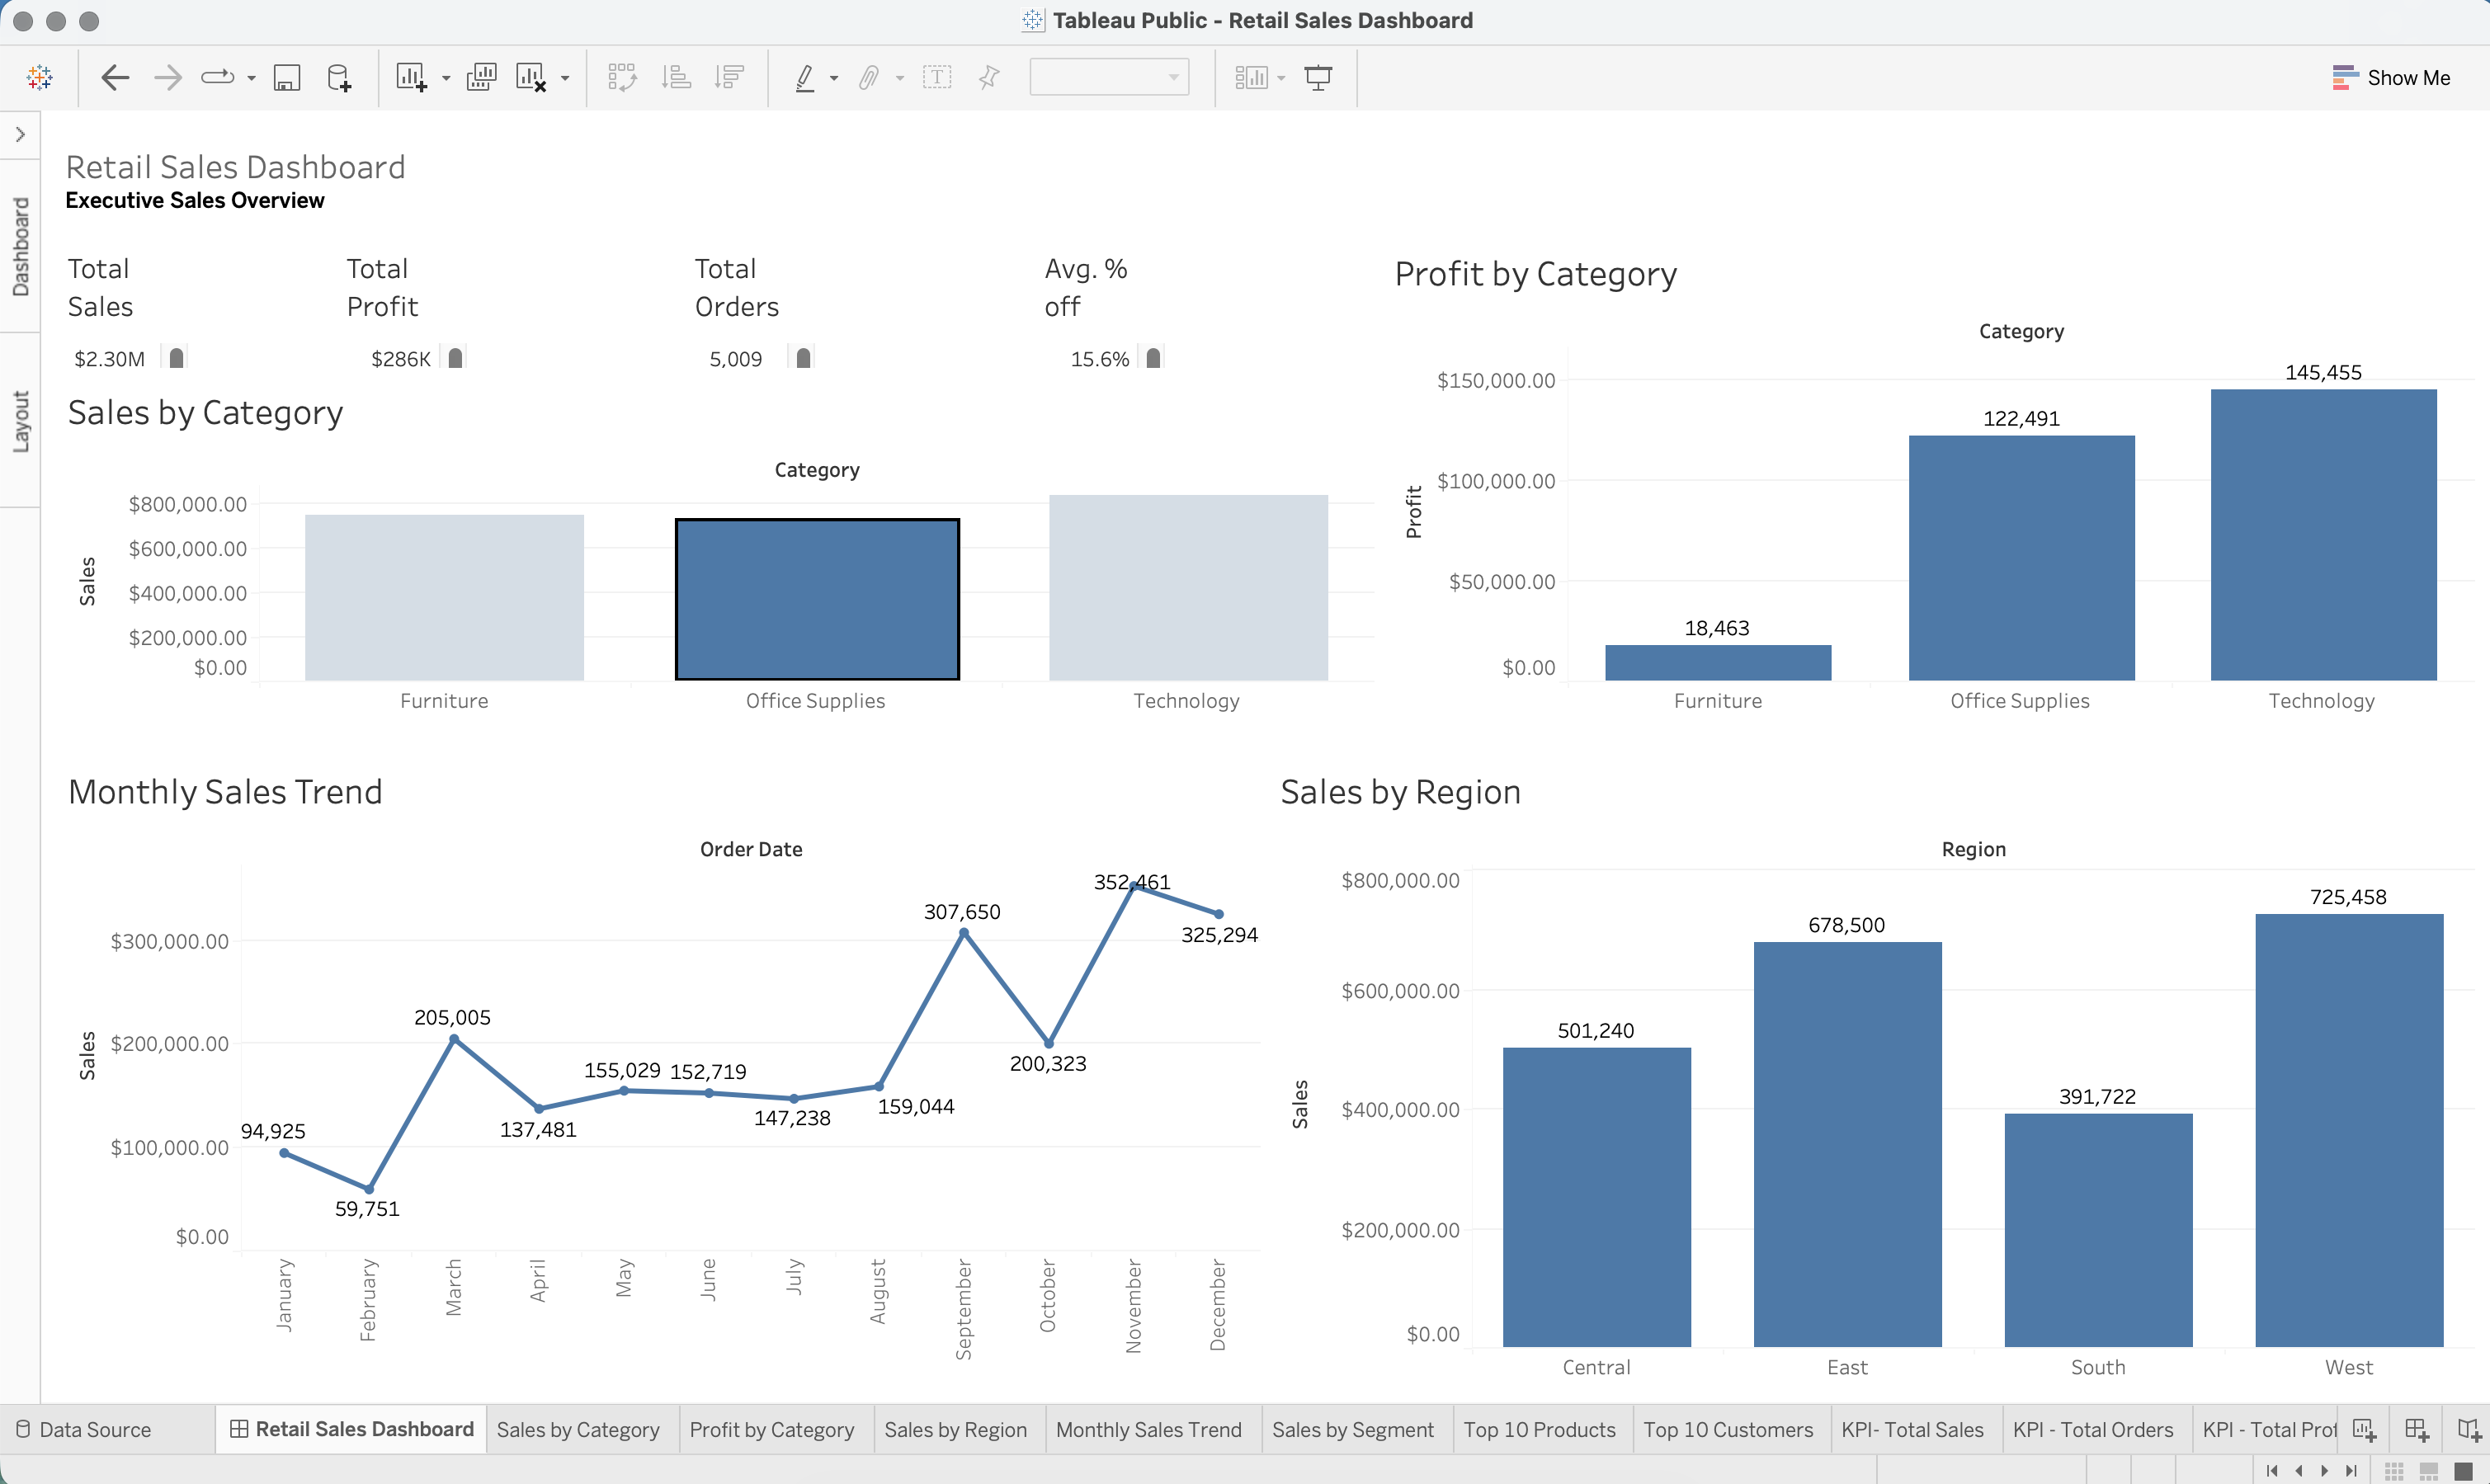

The dashboard page shown, as its layout file describes it:
{"tool":"tableau","page":{"name":"Retail Sales Dashboard","canvas":[1000,1000],"units":"permille","ordinal":0},"visuals":[{"type":"text","box":[6.2,10.2,987.5,86.8]},{"type":"worksheet","title":"KPI- Total Sales","mark":"Text","box":[6.2,97.1,131.9,107.3]},{"type":"worksheet","title":"KPI - Total Profit","mark":"Text","box":[138.2,97.1,135.8,107.3]},{"type":"worksheet","title":"KPI - Total Orders","mark":"Text","box":[274,97.1,135.8,107.3]},{"type":"worksheet","title":"KPI - Avg Discount","mark":"Text","box":[409.8,97.1,135.8,107.3]},{"type":"worksheet","title":"Profit by Category","mark":"Automatic","rows":["Profit"],"cols":["Category"],"box":[545.7,97.1,448.1,400.9]},{"type":"worksheet","title":"Sales by Category","mark":"Automatic","rows":["Sales"],"cols":["Category"],"box":[6.2,204.3,539.4,293.7]},{"type":"worksheet","title":"Monthly Sales Trend","mark":"Automatic","rows":["Sales"],"cols":["Order Date"],"box":[6.2,498,493.8,491.8]},{"type":"worksheet","title":"Sales by Region","mark":"Automatic","rows":["Sales"],"cols":["Region"],"box":[500,498,493.8,491.8]}]}

Visuals, with their boxes on the dashboard's canvas, which has no fixed pixel size, in thousandths of its width and height (x1, y1, x2, y2). These are canvas units, not pixel positions in the 2490x1484 screenshot, which may show the page scaled, cropped or inside an application window:
text: [6,10,994,97]
"KPI- Total Sales" worksheet (Text marks): [6,97,138,204]
"KPI - Total Profit" worksheet (Text marks): [138,97,274,204]
"KPI - Total Orders" worksheet (Text marks): [274,97,410,204]
"KPI - Avg Discount" worksheet (Text marks): [410,97,546,204]
"Profit by Category" worksheet: [546,97,994,498]
"Sales by Category" worksheet: [6,204,546,498]
"Monthly Sales Trend" worksheet: [6,498,500,990]
"Sales by Region" worksheet: [500,498,994,990]
